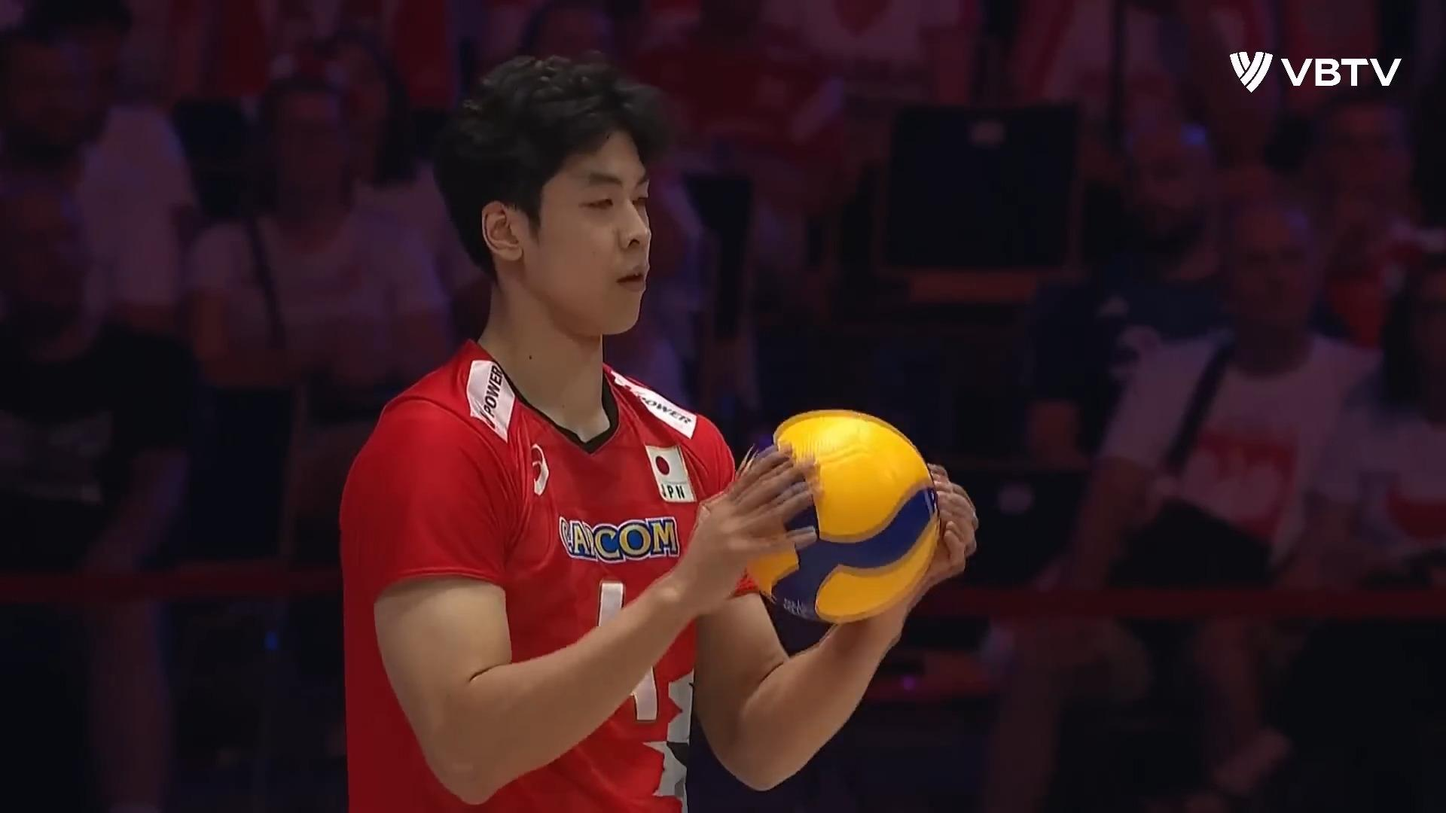ball: (742, 413, 946, 623)
